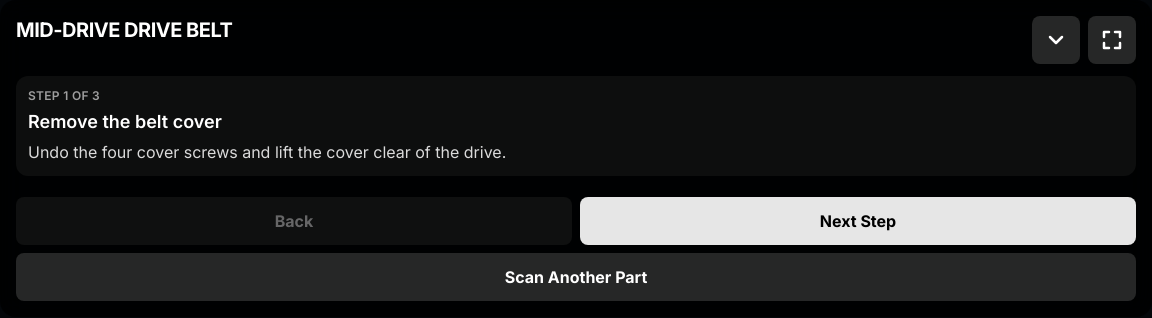
Test: HudCard iFixit guides › minimizes to a slim bar that keeps title, step count, and expand
Step 1. Click the button named "Minimize steps" → coordinates (1056, 40), box [1032, 16, 1080, 64]
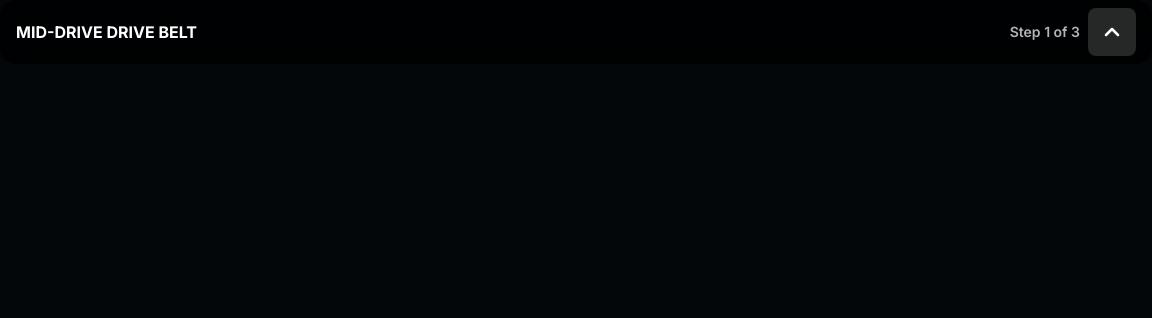
Expected: the button named "Expand steps" is collapsed, [1088, 8, 1136, 56]
Expected: the text "Remove the belt cover" is gone
Expected: the button "Next Step" is gone
